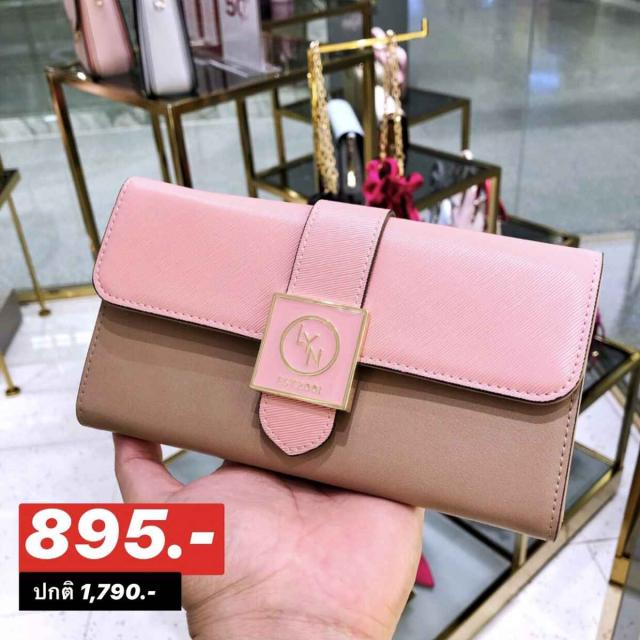Handbag: (69, 176, 605, 545)
